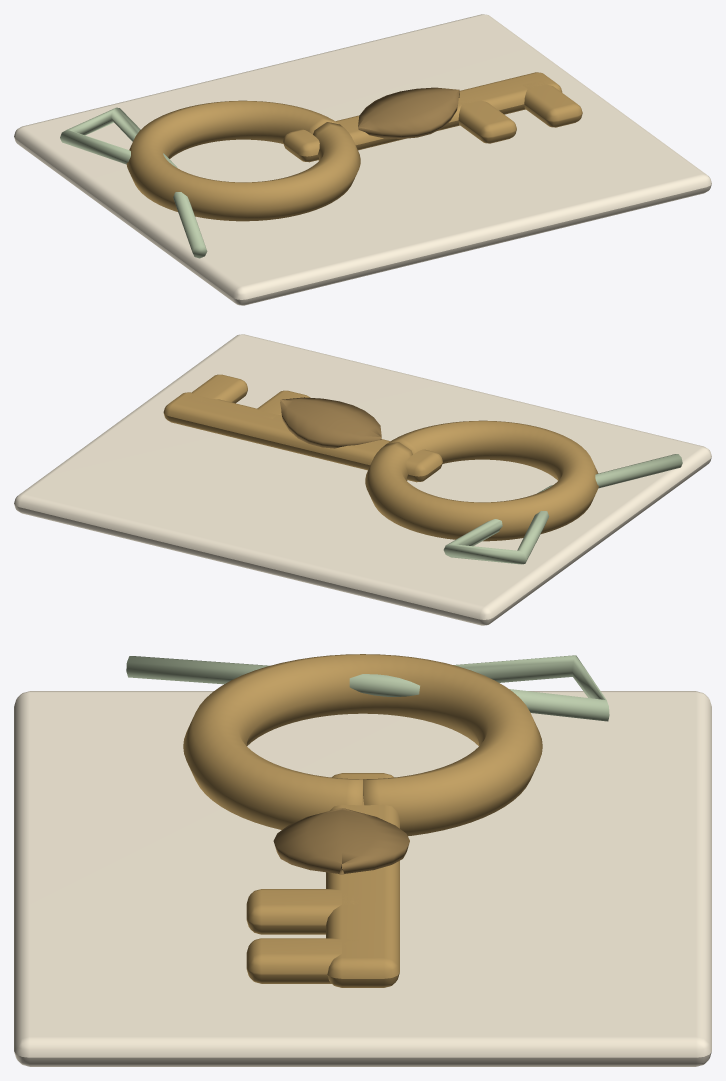
File: gift-23.f26fd36f7dcb.glb
The picture shows the model from 3 angles, top to bottom: view 1: azimuth 30°, elevation 25°; view 2: azimuth 150°, elevation 25°; view 3: azimuth 270°, elevation 25°; orthographic projection. The views are drawn at different scales.
Parts seen in each view (by area): view 1: Blank_bookmark_card, PART_PIVOT_key_MAT_soft_brass, Shallow_leaf_engraving, Green_cotton_knot; view 2: Blank_bookmark_card, PART_PIVOT_key_MAT_soft_brass, Shallow_leaf_engraving, Green_cotton_knot; view 3: Blank_bookmark_card, PART_PIVOT_key_MAT_soft_brass, Green_cotton_knot, Shallow_leaf_engraving.
Boxes of the visible parts, bbox=[...] form: Blank_bookmark_card: bbox=[14, 14, 711, 305]; PART_PIVOT_key_MAT_soft_brass: bbox=[126, 72, 582, 221]; Shallow_leaf_engraving: bbox=[358, 87, 459, 138]; Green_cotton_knot: bbox=[60, 107, 207, 258]; Blank_bookmark_card: bbox=[14, 334, 711, 625]; PART_PIVOT_key_MAT_soft_brass: bbox=[163, 374, 598, 541]; Shallow_leaf_engraving: bbox=[280, 397, 381, 448]; Green_cotton_knot: bbox=[443, 454, 682, 564]; Blank_bookmark_card: bbox=[14, 691, 711, 1066]; PART_PIVOT_key_MAT_soft_brass: bbox=[183, 654, 542, 987]; Green_cotton_knot: bbox=[126, 655, 609, 721]; Shallow_leaf_engraving: bbox=[273, 808, 409, 874].
Bounding box in the file's own units: 0.081 × 0.0105 × 0.066.
